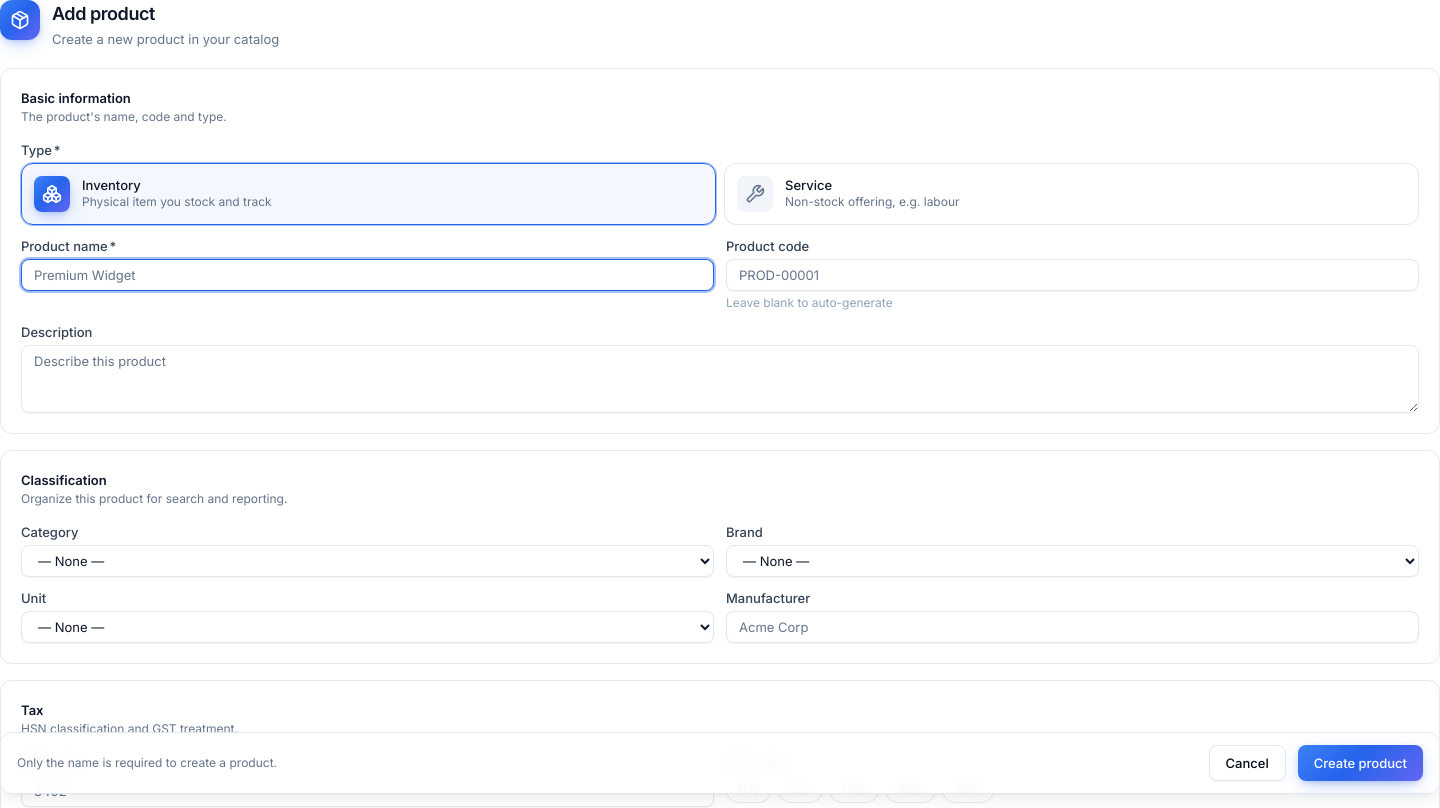
Test: ProductForm (create) › shows a validation error and does not submit when the name is empty
Click the button "Create product" at x=1360, y=763, box [1298,745,1423,781]
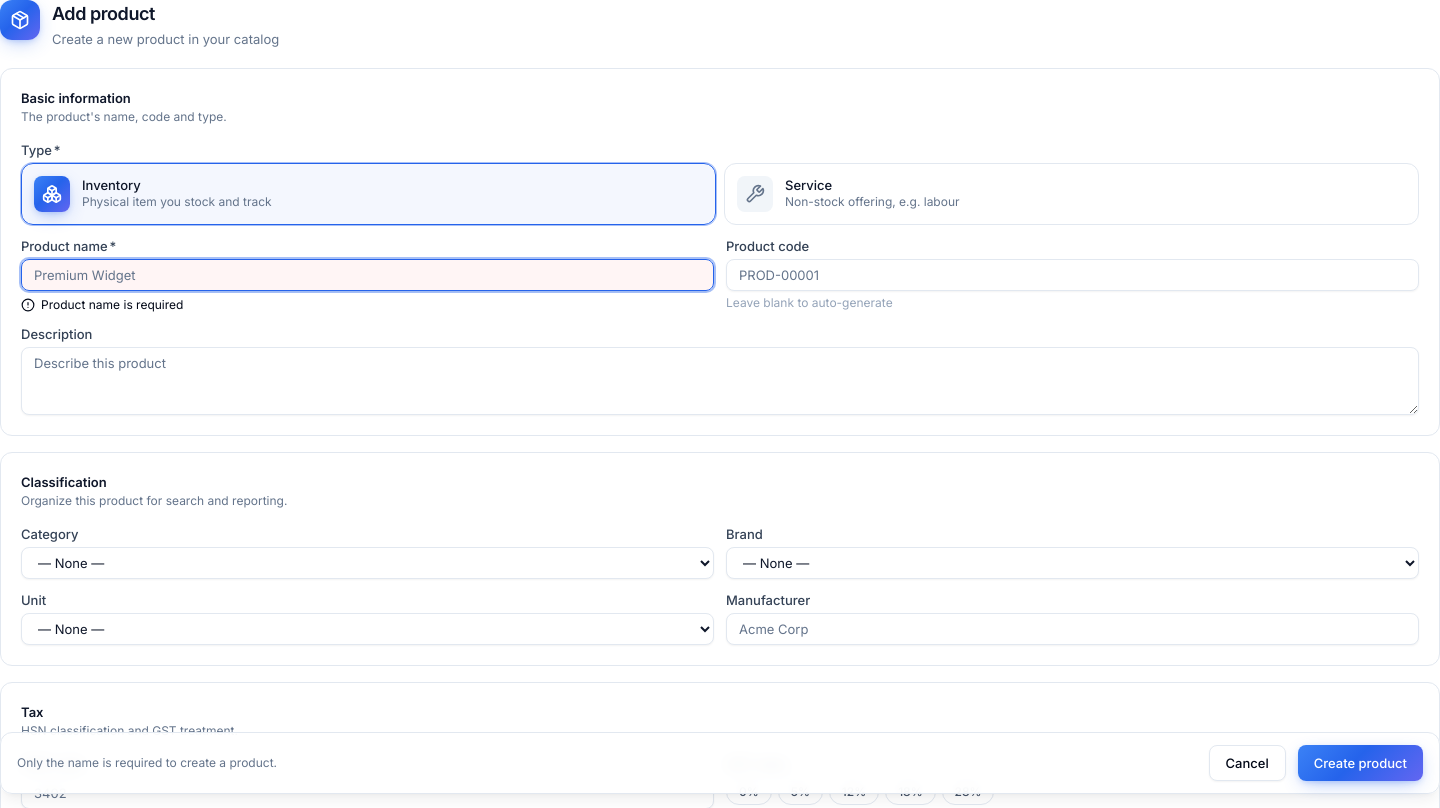
Check: the text "Product name is required" is shown, box [21,297,183,312]
